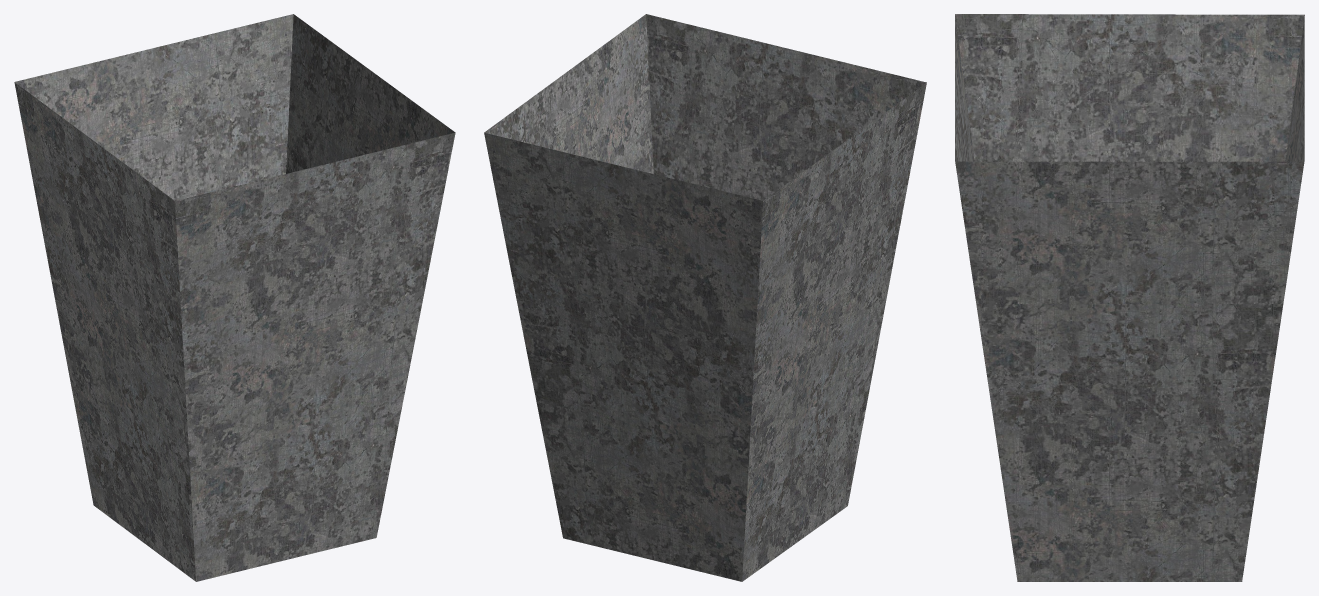
File: bin2.fbx
3 views of the same model, side by side, from view 1: azimuth 30°, elevation 25°; view 2: azimuth 150°, elevation 25°; view 3: azimuth 270°, elevation 25° (orthographic). The views are drawn at different scales.
Visible parts, largest first — view 1: pCube3; view 2: pCube3; view 3: pCube3.
Part boxes in pixels (x1,y1,x2,y2): pCube3: (14,14,455,581); pCube3: (484,14,926,581); pCube3: (955,14,1304,581).
Bounding box in the file's own units: 4.99 × 7.04 × 4.99.
1 material, 1 textured.
